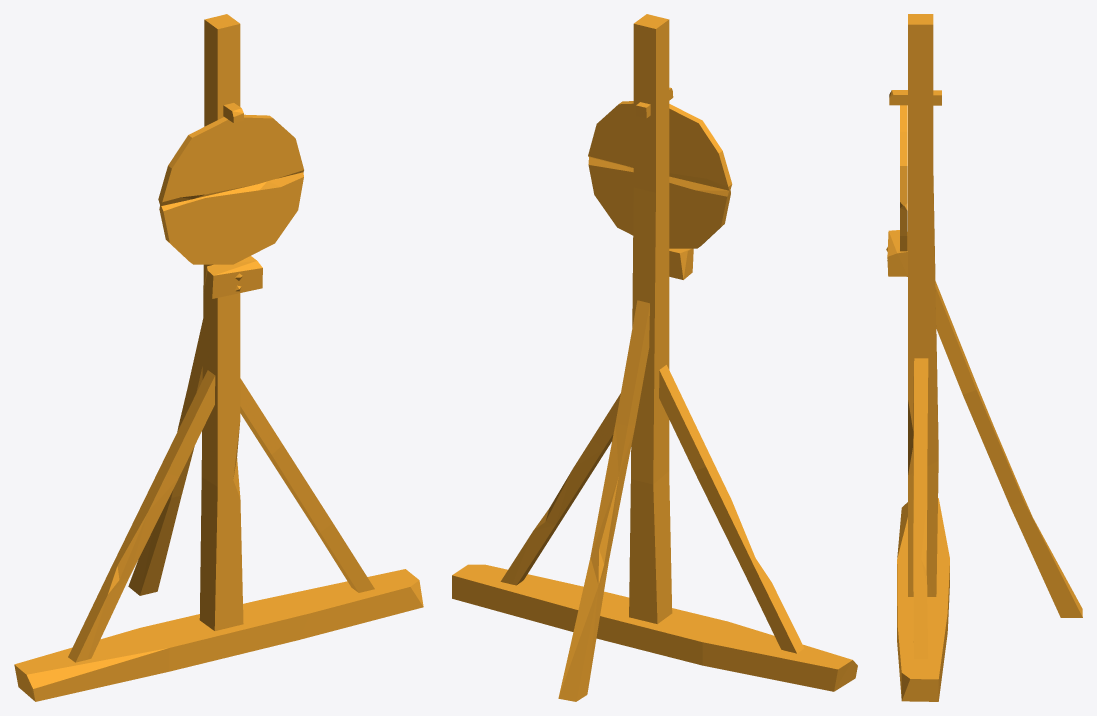
Rendered from SM_Training_Target_Wooden_Small_Fantasy.fbx.
3 renders of one model, left to right at view 1: azimuth 30°, elevation 25°; view 2: azimuth 150°, elevation 25°; view 3: azimuth 270°, elevation 25°, orthographic. The views are drawn at different scales.
Visible parts, largest first — view 1: training-target-wooden-small-fantasy; view 2: training-target-wooden-small-fantasy; view 3: training-target-wooden-small-fantasy.
Part boxes in pixels (x1,y1,x2,y2): training-target-wooden-small-fantasy: (14, 14, 423, 701); training-target-wooden-small-fantasy: (452, 14, 857, 701); training-target-wooden-small-fantasy: (886, 14, 1082, 701).
Size of the model in its own units: 1.09 by 1.66 by 0.4975.
